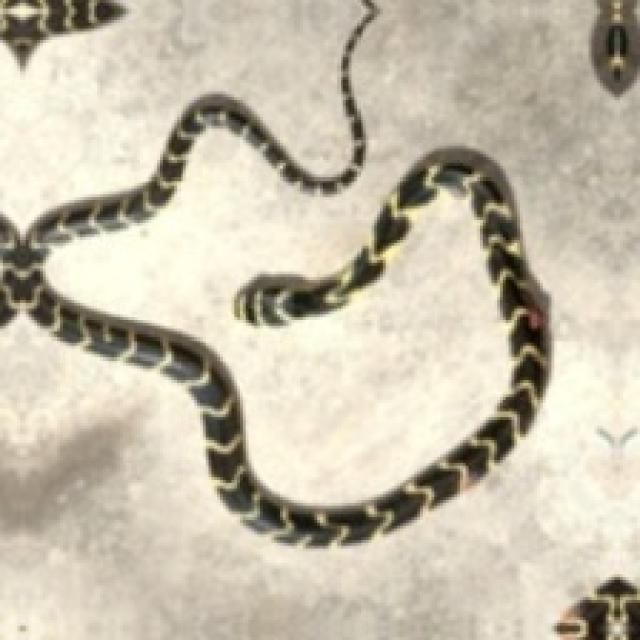king cobra: (0, 0, 549, 543), (197, 186, 511, 503), (303, 297, 417, 420)
